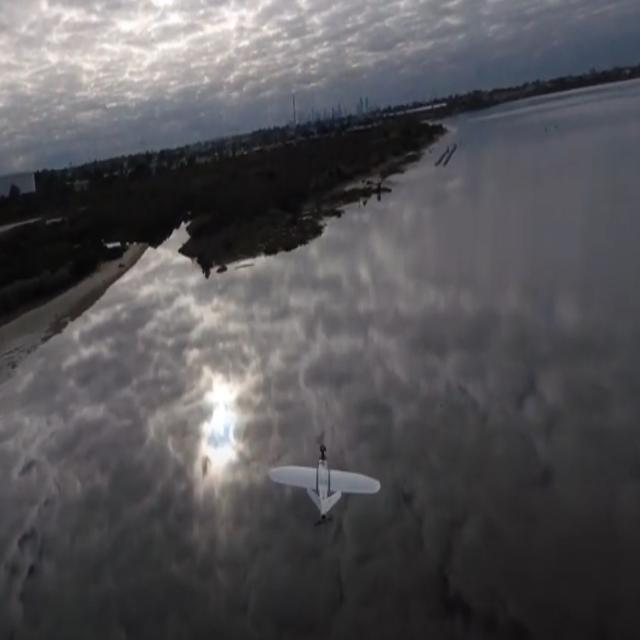iha: (299, 474, 349, 498)
